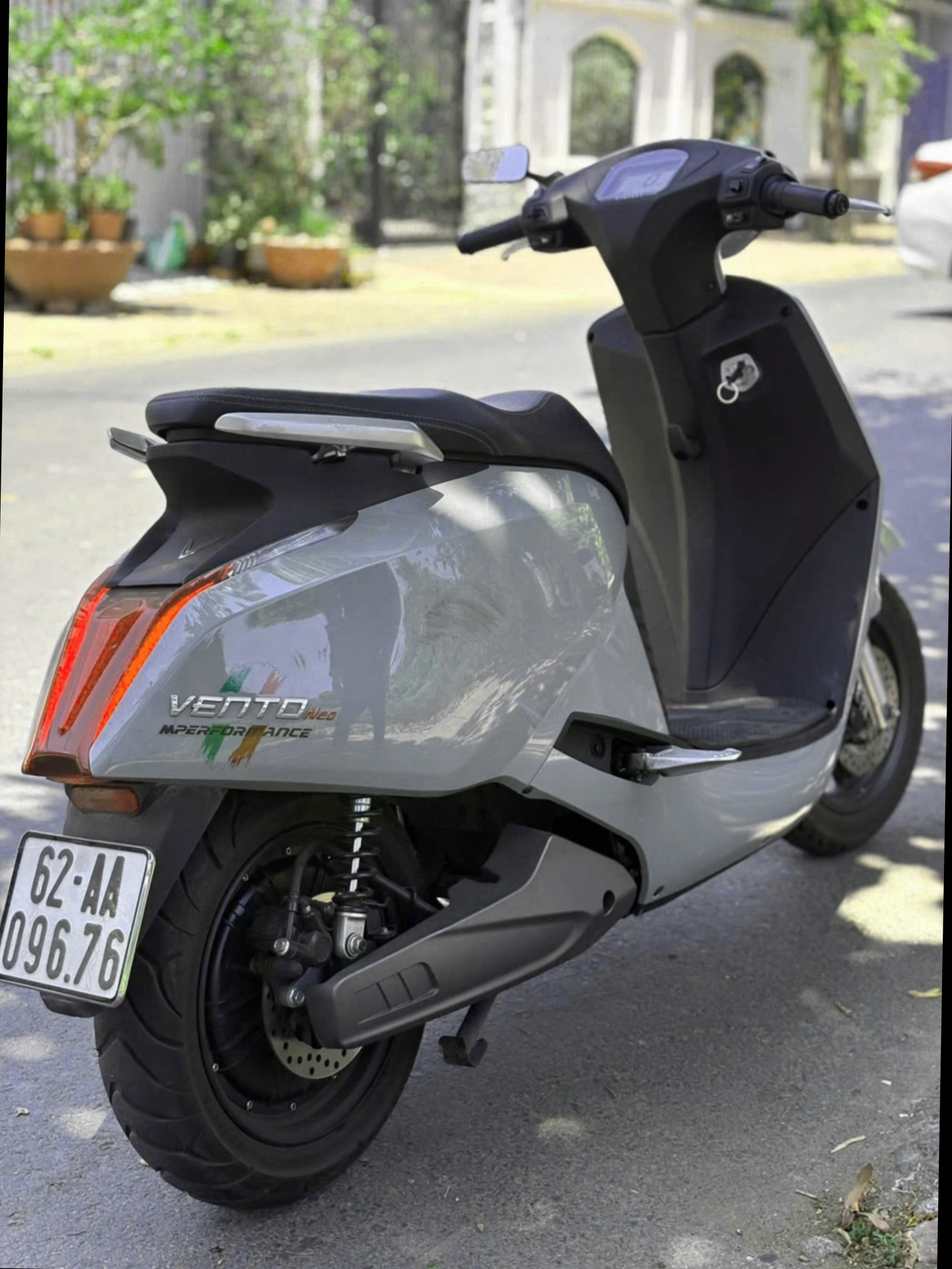Bien-so: (0, 817, 162, 987)
